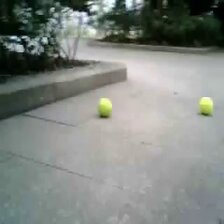tennis: (198, 96, 213, 114), (98, 99, 112, 116)
